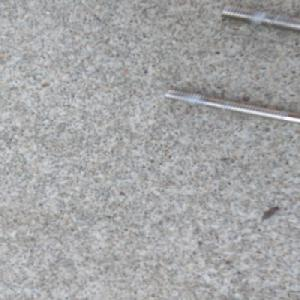ClampPart: (162, 3, 300, 125)
